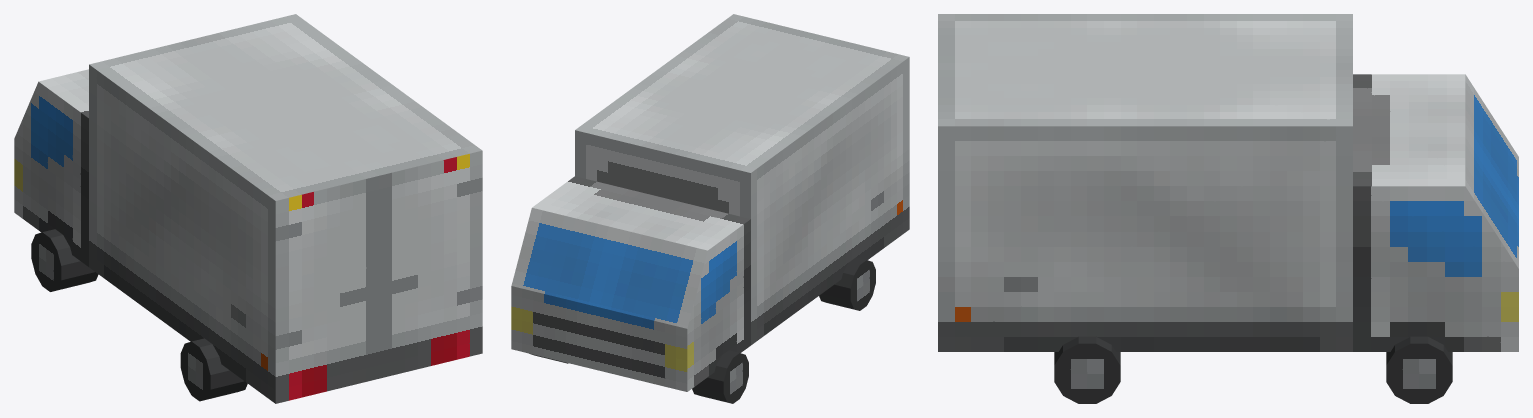
Rendered from truck.gltf.
3 renders of one model, left to right at view 1: azimuth 30°, elevation 25°; view 2: azimuth 150°, elevation 25°; view 3: azimuth 270°, elevation 25°, orthographic. The views are drawn at different scales.
Parts seen in each view (by area): view 1: mesh (×2), cylinder (×2); view 2: mesh (×2), cylinder (×2); view 3: mesh (×2), cylinder (×2).
Part boxes in pixels (x1=…): mesh (×2): x1=14, y1=14, x2=482, y2=403; cylinder (×2): x1=31, y1=229, x2=247, y2=401; mesh (×2): x1=511, y1=14, x2=909, y2=391; cylinder (×2): x1=692, y1=257, x2=875, y2=403; mesh (×2): x1=938, y1=14, x2=1518, y2=351; cylinder (×2): x1=1054, y1=336, x2=1452, y2=403.
Size of the model in its own units: 4.5 by 4.5 by 8.75.
Materials: 1 (1 with a texture image).
